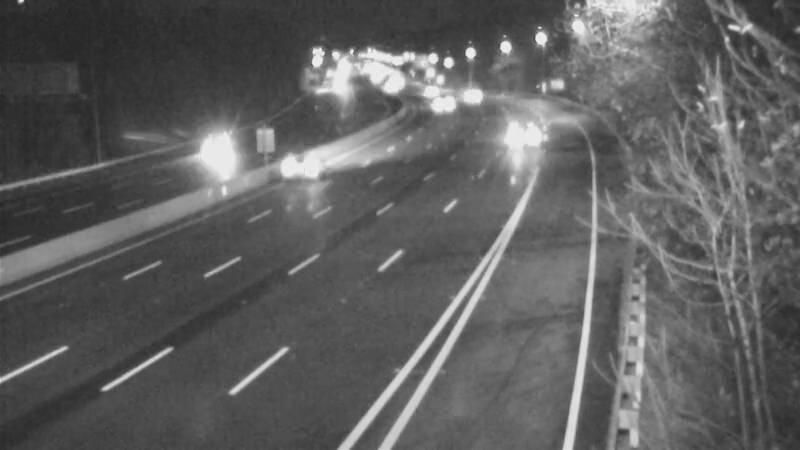vehicle: (253, 130, 333, 210), (179, 115, 259, 195), (401, 64, 451, 114), (442, 70, 492, 120), (415, 84, 465, 134), (502, 110, 552, 160)
